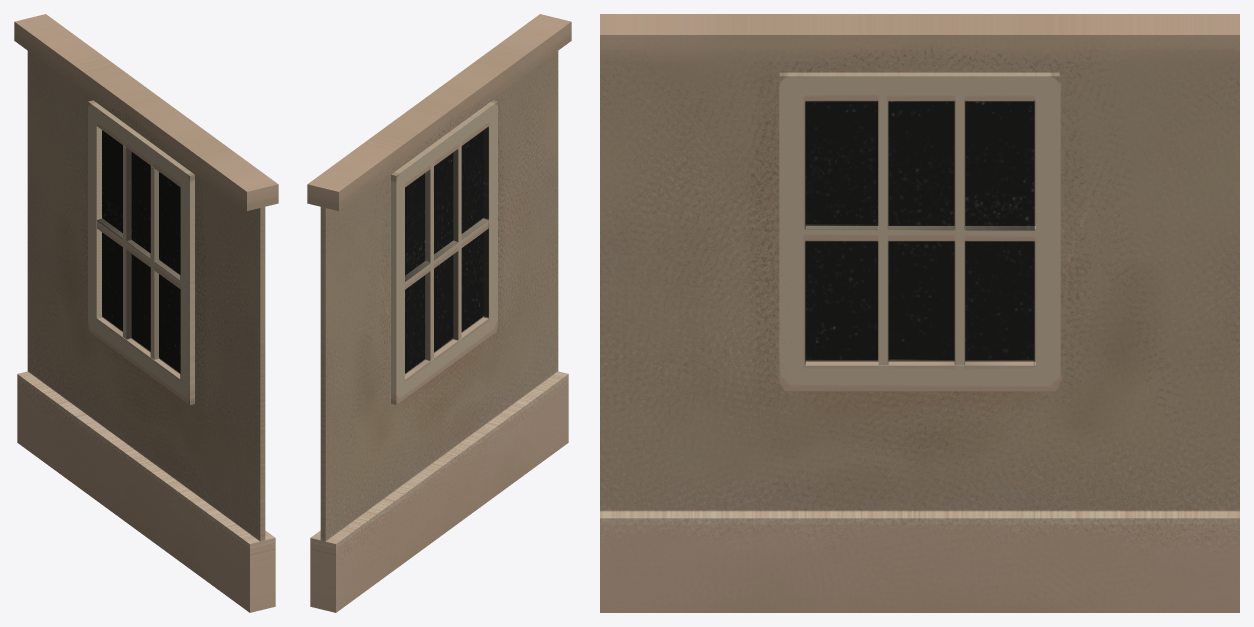
File: window.obj
3 renders of one model, left to right at view 1: azimuth 30°, elevation 25°; view 2: azimuth 150°, elevation 25°; view 3: azimuth 270°, elevation 25°, orthographic. The views are drawn at different scales.
Visible parts, largest first — view 1: window; view 2: window; view 3: window.
Part boxes in pixels (<box>): window: <box>14,14,278,612</box>; window: <box>307,14,571,612</box>; window: <box>600,14,1239,612</box>.
Size of the model in its own units: 0.078 by 1 by 1.
